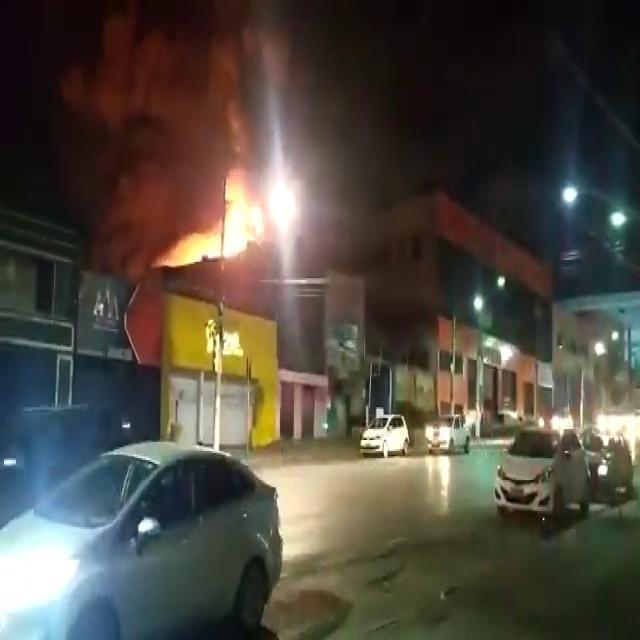Fire: (137, 186, 268, 264)
Smoke: (55, 0, 318, 305)
